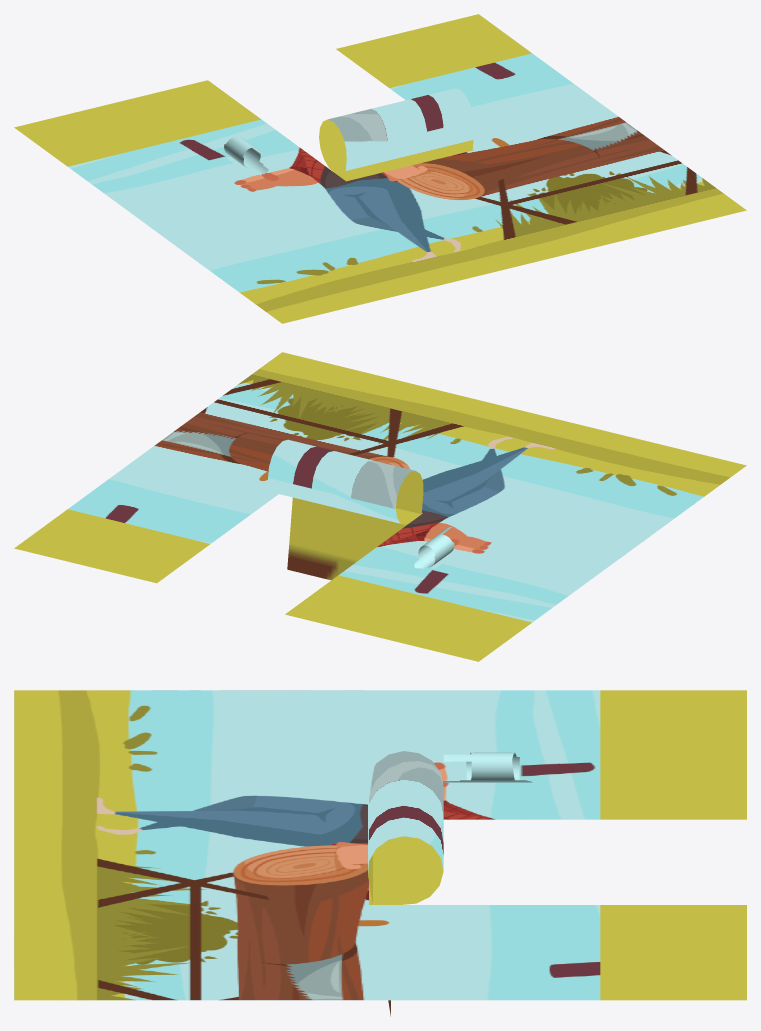
The picture shows the model from 3 angles, top to bottom: view 1: azimuth 30°, elevation 25°; view 2: azimuth 150°, elevation 25°; view 3: azimuth 270°, elevation 25°; orthographic projection. The views are drawn at different scales.
Parts seen in each view (by area): view 1: Mesh, Blend_01, Blend_02; view 2: Mesh, Blend_01, Blend_02; view 3: Mesh, Blend_01, Blend_02.
Part boxes in pixels (x1,y1,x2,y2): Mesh: (14, 14, 746, 323); Blend_01: (319, 88, 474, 181); Blend_02: (224, 136, 268, 174); Mesh: (14, 352, 746, 661); Blend_01: (268, 439, 423, 580); Blend_02: (414, 527, 454, 569); Mesh: (14, 690, 746, 1000); Blend_01: (368, 751, 443, 1016); Blend_02: (443, 752, 532, 782).
Size of the model in its own units: 2400 by 651 by 2400.
